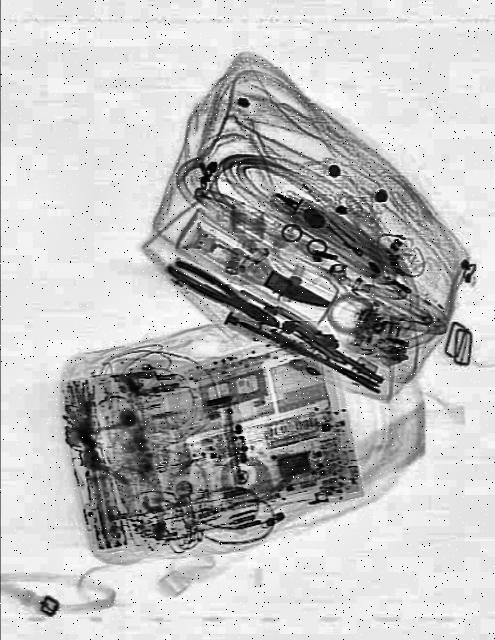Pliers: (165, 252, 285, 334)
